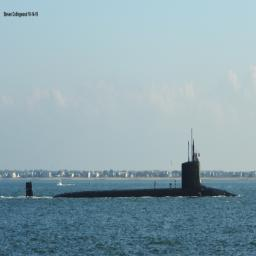submarine: (27, 131, 238, 197)
